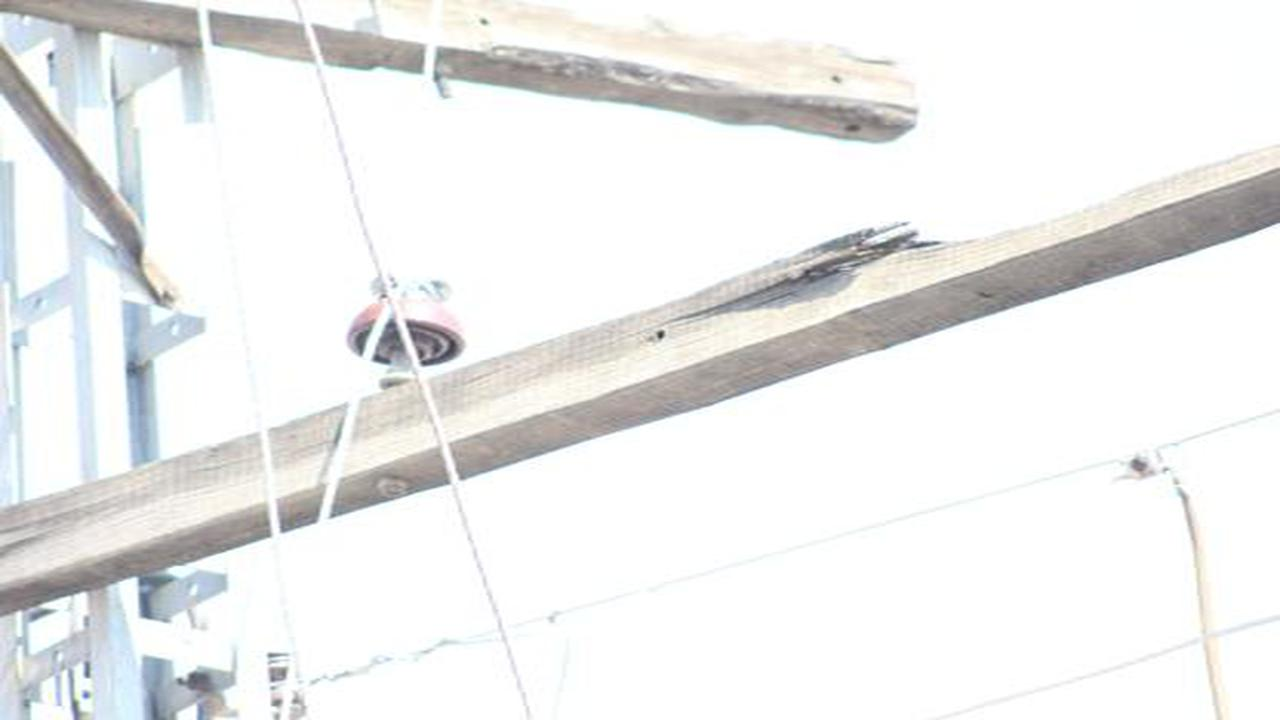insulator_pin: (342, 268, 470, 374)
